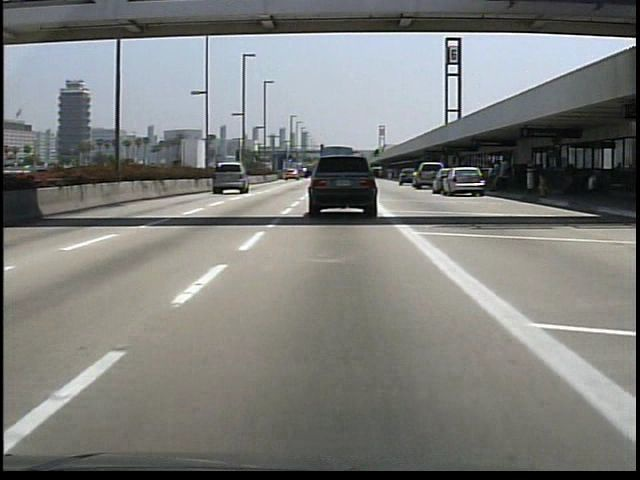person: (495, 154, 516, 194), (485, 159, 500, 193)
